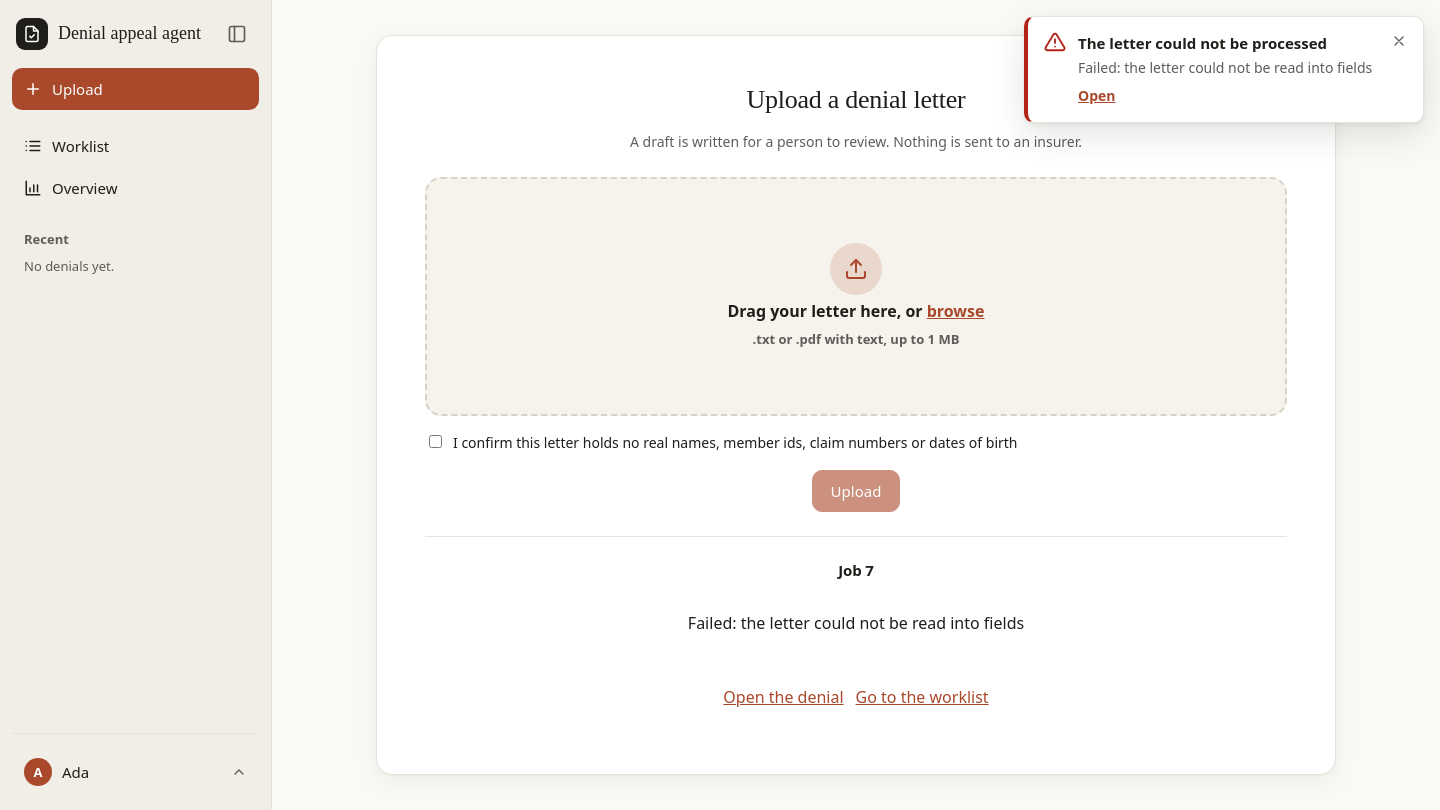
Scenario: UploadScreen › says when the watched job fails, and Open goes to its screen
The width and height of the screenshot is (1440, 810).
Expected: the message "Failed: the letter could not be read into fields" is shown, x1=688 y1=611 x2=1024 y2=637
Expected: the text "The letter could not be processed" is shown, x1=1078 y1=31 x2=1327 y2=55
Click the button "Open" at [1097, 97], box x1=1078 y1=85 x2=1116 y2=108
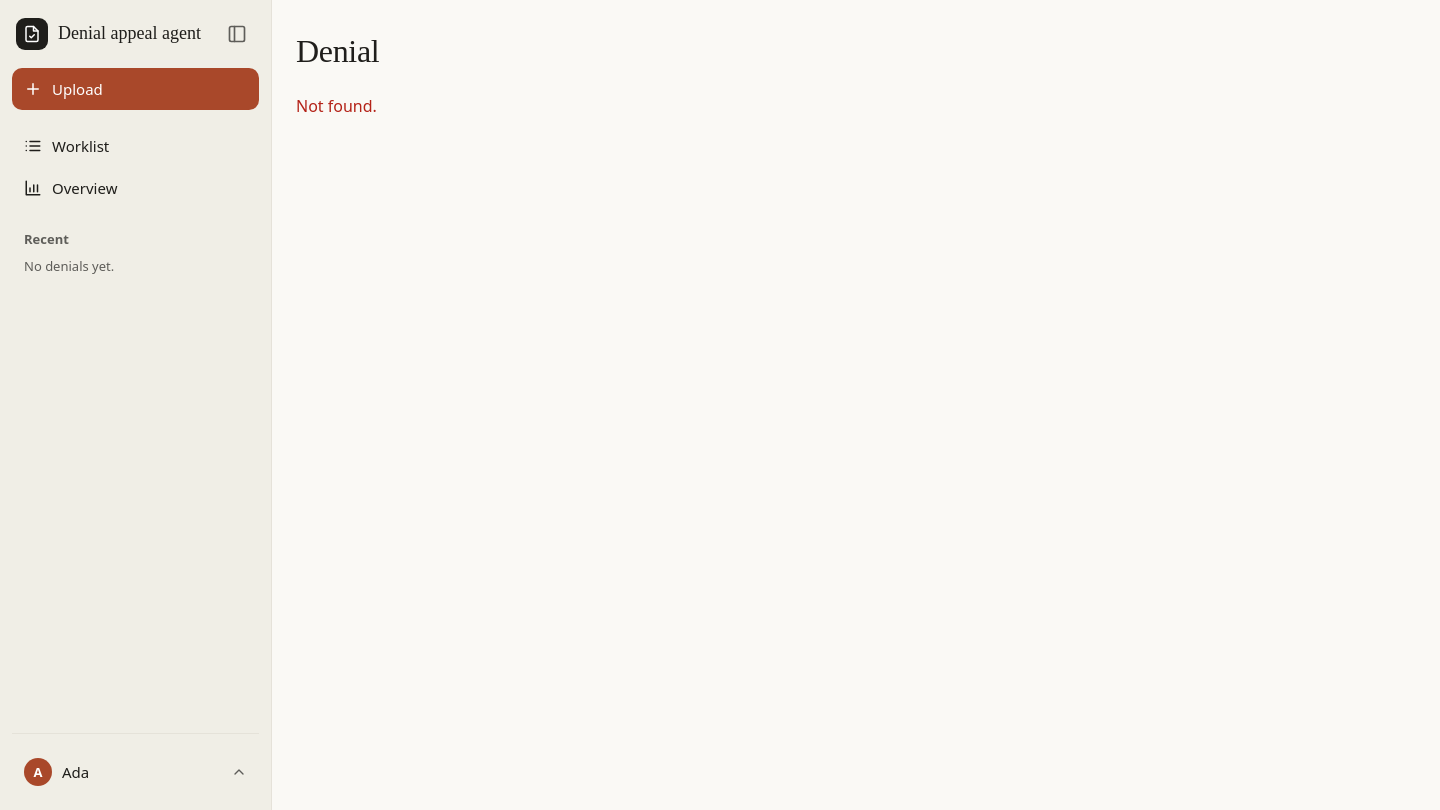
Now the text "The letter could not be processed" is gone
